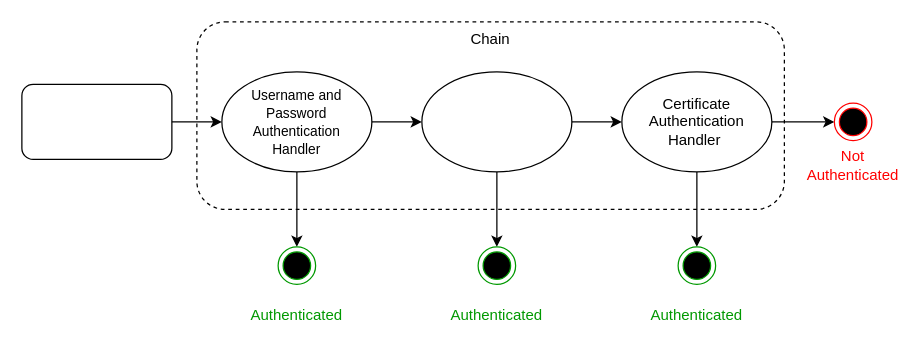
Some shapes in this 920 by 356 pixel diagram are drawn without their labels. Here are the shapes that lost their labels. From the top down, the centre of each, then its label:
At [96,121]: "Authentication Data".
At [496,121]: "Token Authentication Handler".
